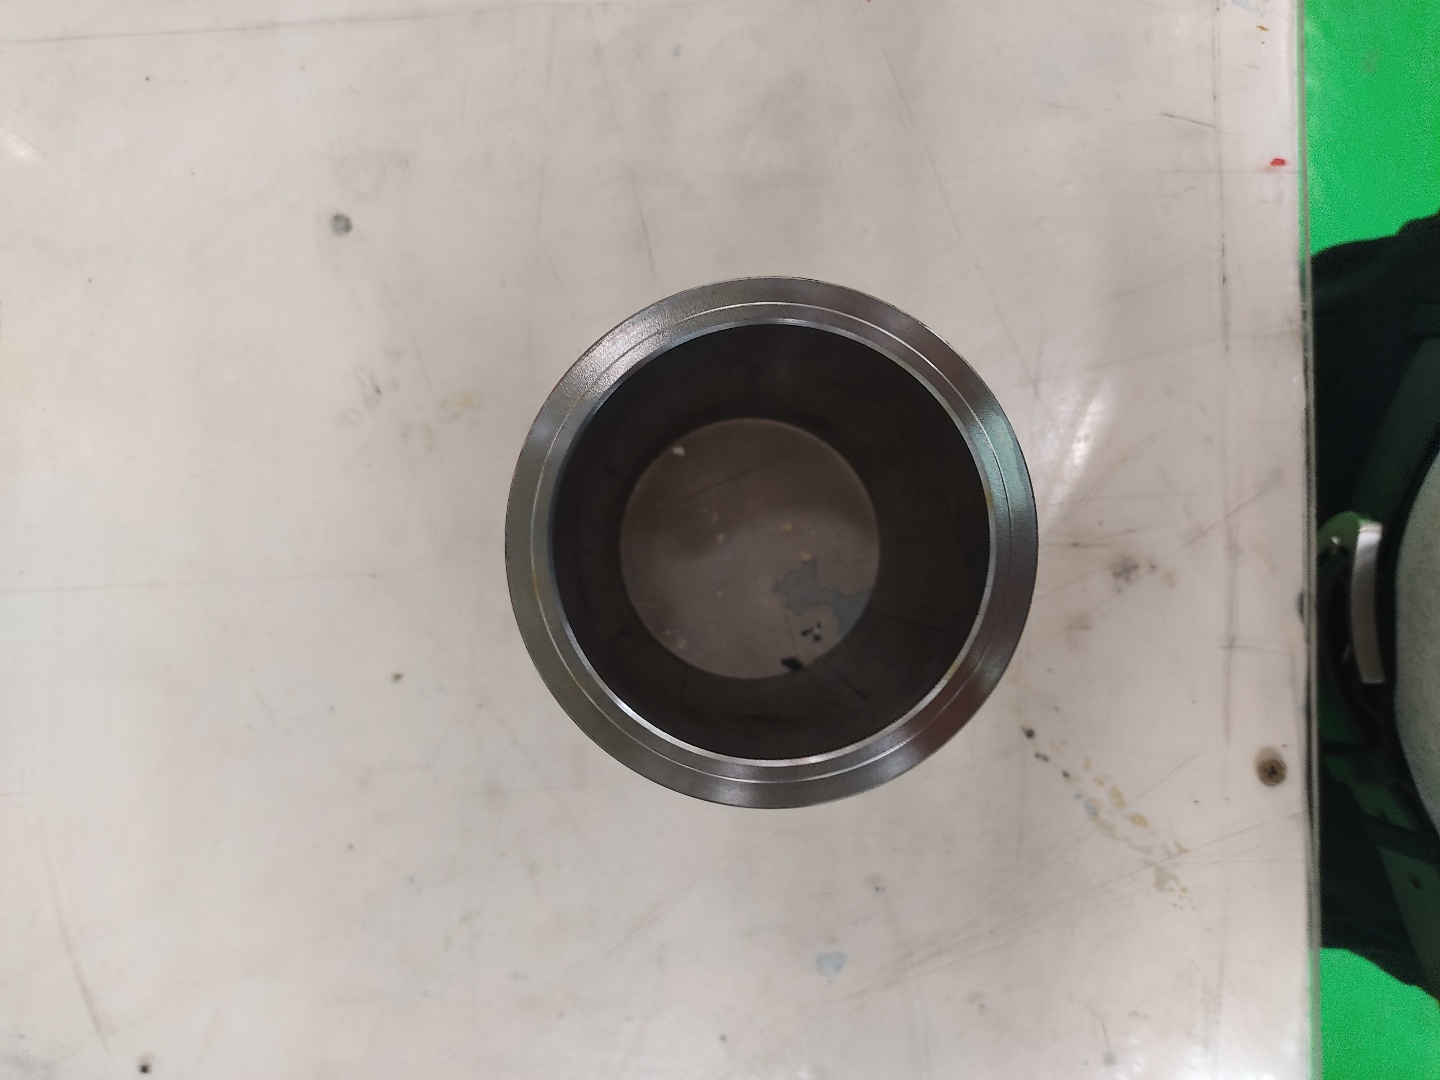cylinder: (498, 272, 1043, 811)
